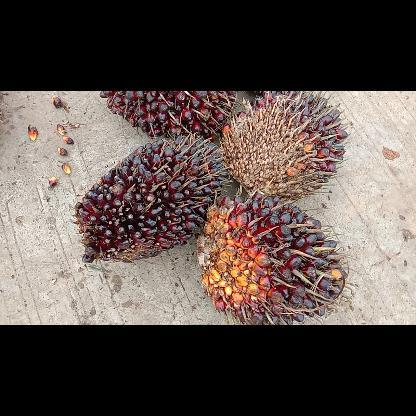TBS mentah: (196, 194, 356, 324), (74, 134, 230, 262), (221, 90, 347, 198), (99, 91, 236, 139)
